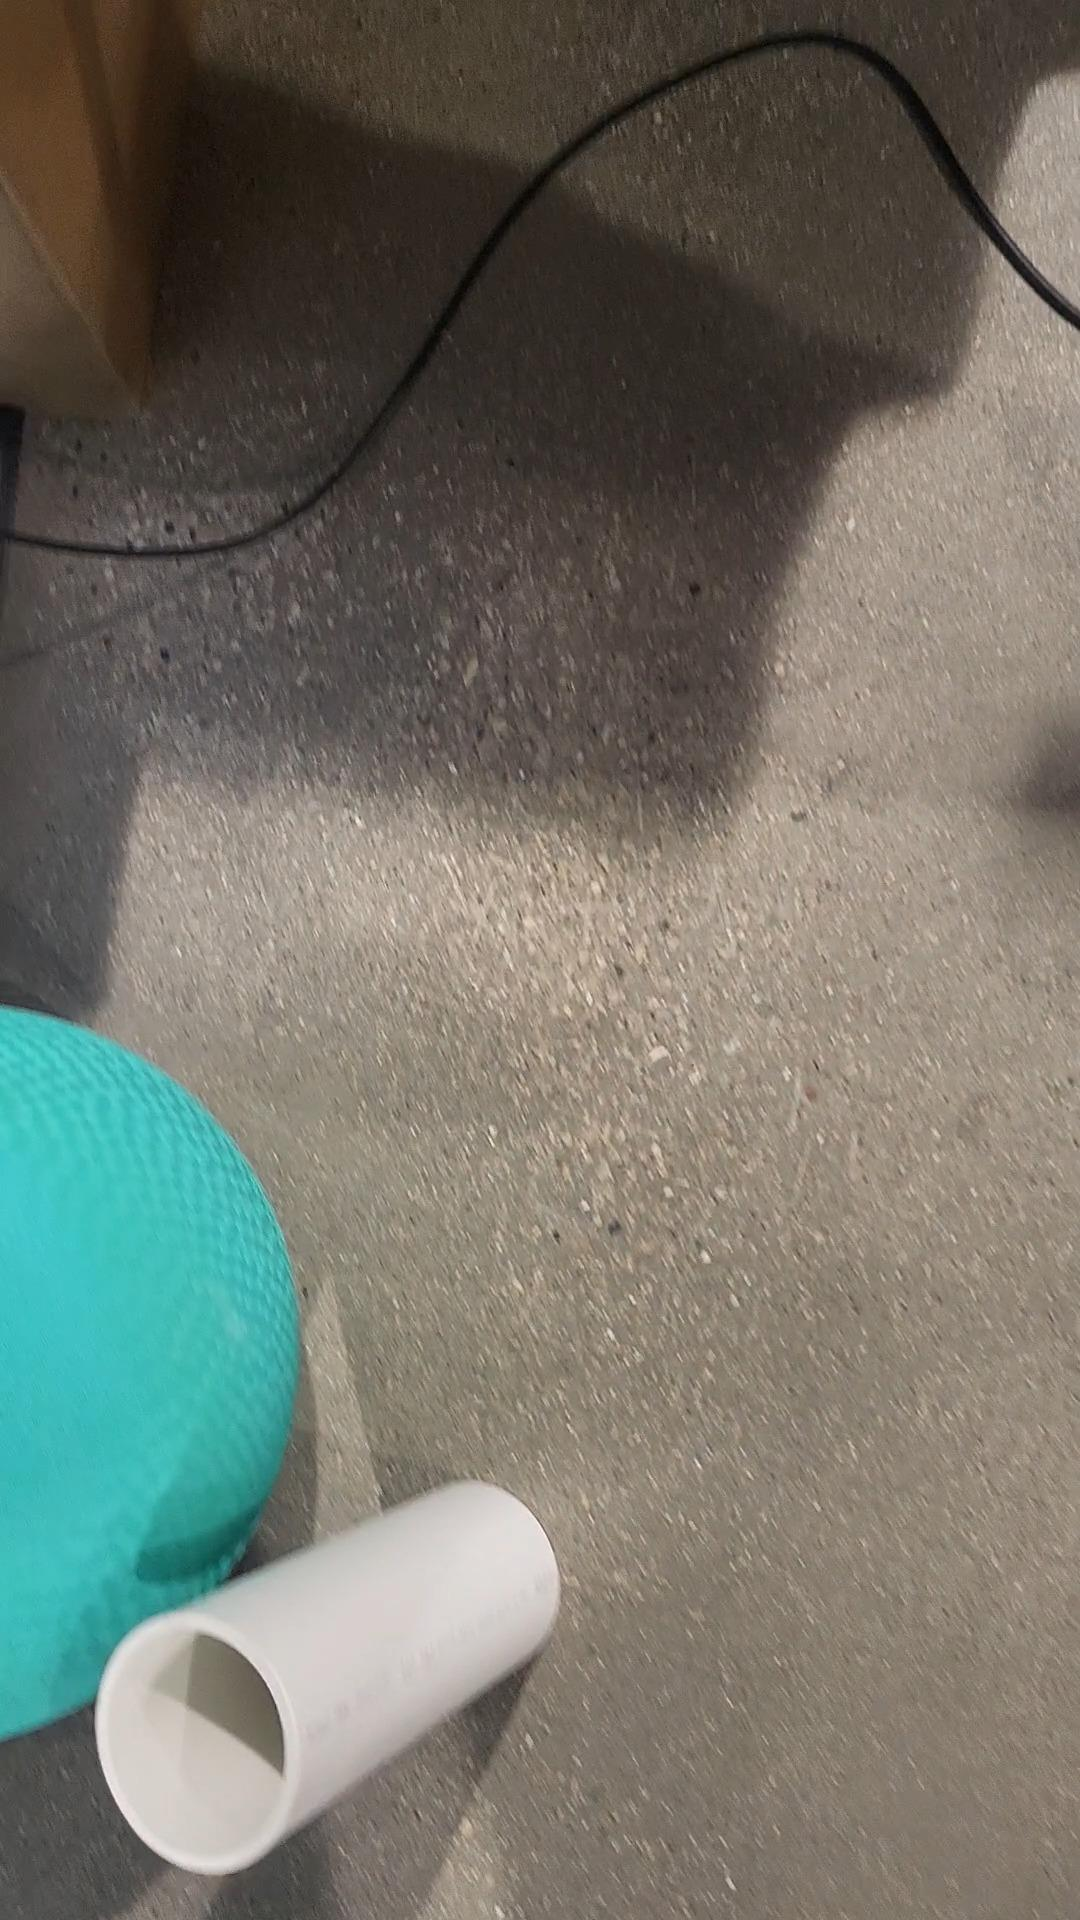algae: (0, 1005, 305, 1753)
coral: (98, 1476, 555, 1867)
